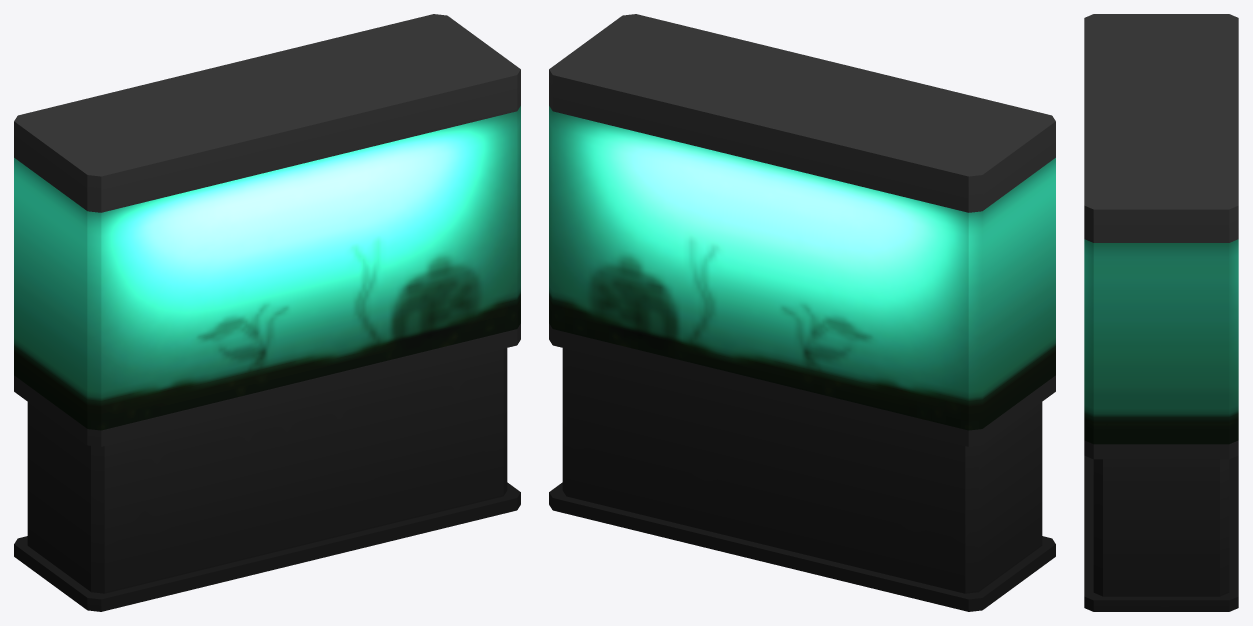
File: FishTank.fbx
3 views of the same model, side by side, from view 1: azimuth 30°, elevation 25°; view 2: azimuth 150°, elevation 25°; view 3: azimuth 270°, elevation 25° (orthographic). The views are drawn at different scales.
Visible parts, largest first — view 1: FishTank; view 2: FishTank; view 3: FishTank.
Boxes of the visible parts, left/top/right/bottom form: FishTank: left=14, top=14, right=520, bottom=611; FishTank: left=549, top=14, right=1055, bottom=611; FishTank: left=1084, top=14, right=1238, bottom=611.
Size of the model in its own units: 150 by 144 by 50.
